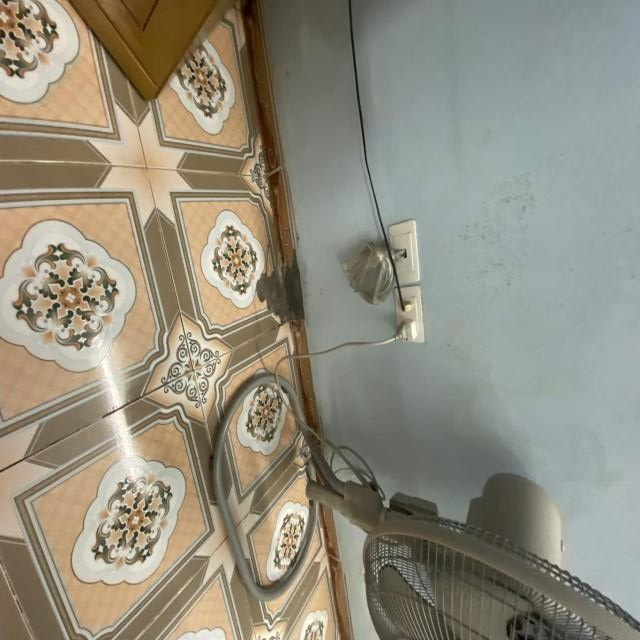outlet: (388, 219, 420, 285), (394, 285, 425, 343)
